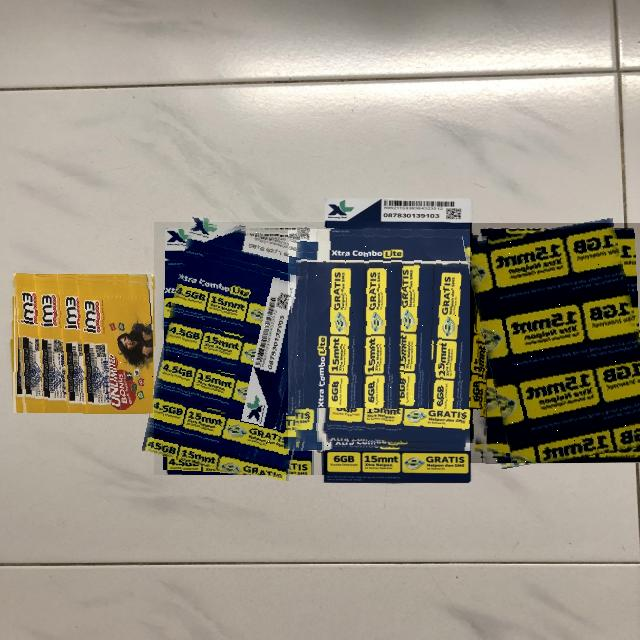Gratis Nelpon: (288, 229, 511, 451), (154, 222, 327, 475), (470, 223, 640, 463)
im3: (13, 274, 153, 413)
